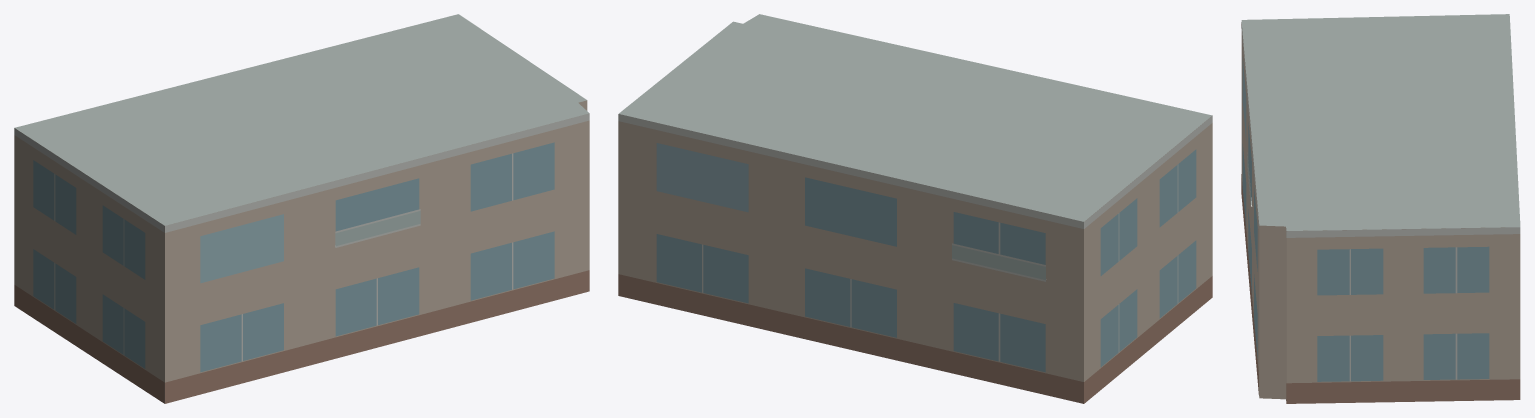
Rendered from survey-upis-32901993.glb.
The picture shows the model from 3 angles, left to right: view 1: azimuth 30°, elevation 25°; view 2: azimuth 150°, elevation 25°; view 3: azimuth 270°, elevation 25°; orthographic projection. The views are drawn at different scales.
Visible parts, largest first — view 1: survey-upis-32901993.tmp; view 2: survey-upis-32901993.tmp; view 3: survey-upis-32901993.tmp.
Boxes of the visible parts, x1=… form: survey-upis-32901993.tmp: x1=14, y1=14, x2=589, y2=403; survey-upis-32901993.tmp: x1=618, y1=14, x2=1212, y2=403; survey-upis-32901993.tmp: x1=1241, y1=14, x2=1520, y2=403.
Size of the model in its own units: 16.44 by 6.1 by 8.94.
